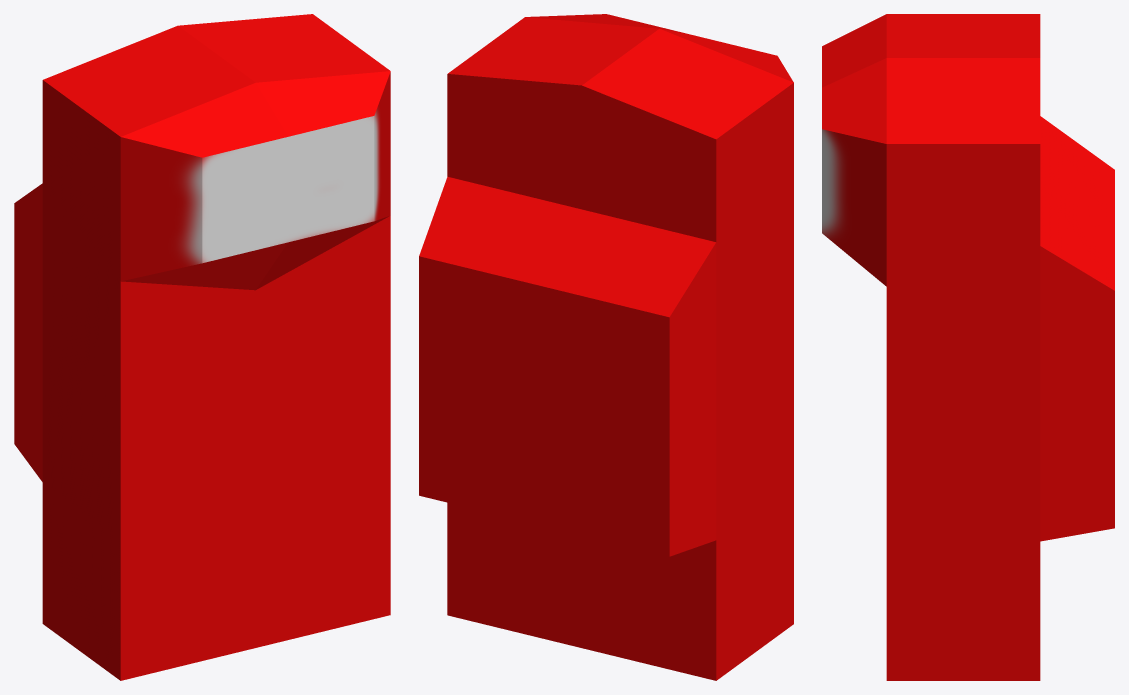
File: amogus.glb
3 renders of one model, left to right at view 1: azimuth 30°, elevation 25°; view 2: azimuth 150°, elevation 25°; view 3: azimuth 270°, elevation 25°, orthographic.
Visible parts, largest first — view 1: Cube; view 2: Cube; view 3: Cube.
Part boxes in pixels (x1,y1,x2,y2): Cube: (14,14,390,680); Cube: (419,14,793,680); Cube: (822,14,1114,680).
Size of the model in its own units: 4 by 8 by 3.81.
Materials: 1 (1 with a texture image).
